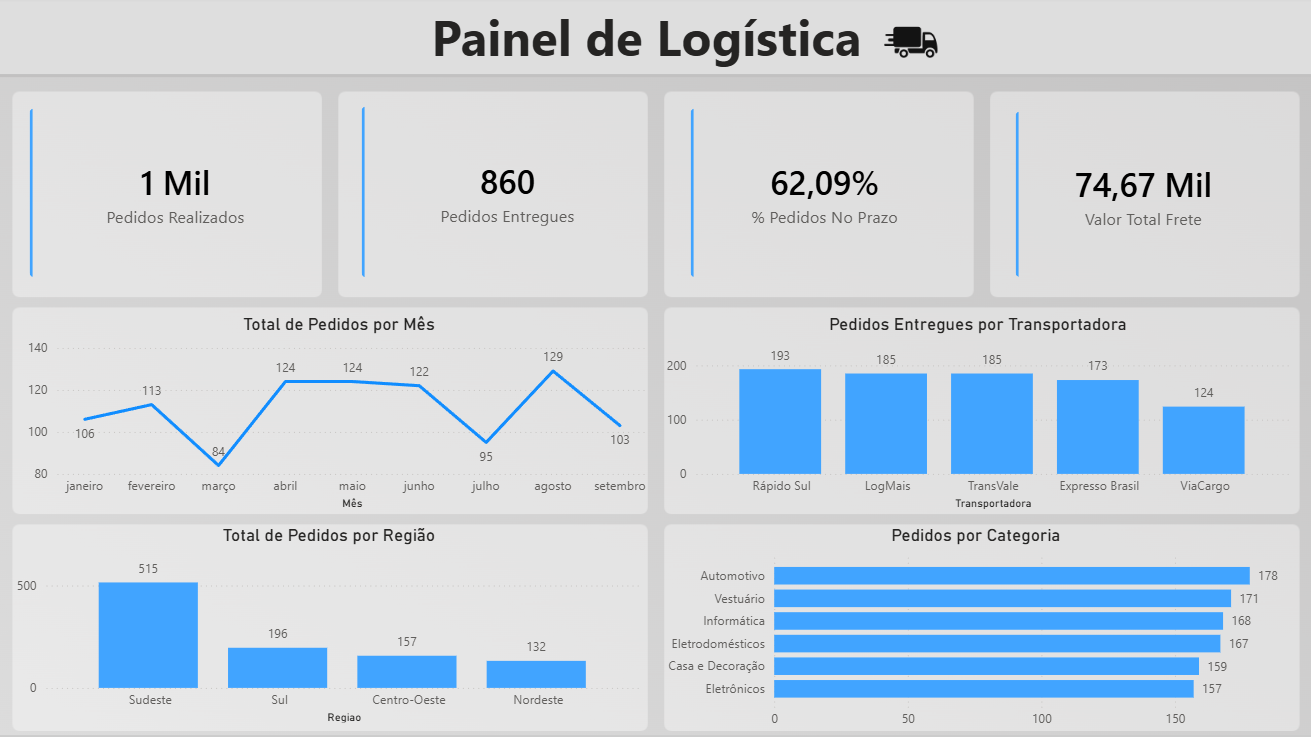

This screenshot's page, from the dashboard's own definition file:
{"tool":"powerbi","page":{"name":"Página 1","canvas":[1280,720],"ordinal":0},"visuals":[{"type":"cardVisual","title":"Pedidos Realizados","fields":{"Data":["Pedidos.Pedidos Realizados"]},"box":[12.6,90.5,320,200.4],"z":0},{"type":"cardVisual","fields":{"Data":["Pedidos.Pedidos Entregues"]},"box":[335.6,88.5,320,202.3],"z":1},{"type":"cardVisual","fields":{"Data":["Pedidos.% Pedidos No Prazo"]},"box":[655.6,90.5,297.6,200.4],"z":2},{"type":"cardVisual","fields":{"Data":["Pedidos.Valor Total do Frete"]},"box":[971.7,93.4,286,197.4],"z":4},{"type":"lineChart","fields":{"Y":["Pedidos.Total de Pedidos"],"Category":["Pedidos.Data_Pedido.Variation.Hierarquia de datas.Ano","Pedidos.Data_Pedido.Variation.Hierarquia de datas.Trimestre","Pedidos.Data_Pedido.Variation.Hierarquia de datas.Mês","Pedidos.Data_Pedido.Variation.Hierarquia de datas.Dia"]},"box":[23.3,308.3,616.7,194.5],"z":5},{"type":"columnChart","title":"Pedidos Entregues por Transportadora","fields":{"Category":["Pedidos.Transportadora"],"Y":["Pedidos.Pedidos Entregues"]},"box":[644.9,308.3,616.7,194.5],"z":6},{"type":"columnChart","fields":{"Category":["Pedidos.Regiao"],"Y":["Pedidos.Total de Pedidos"]},"box":[14.6,513.6,616.7,197.4],"z":7},{"type":"image","box":[855,5.8,67.1,66.1],"z":8},{"type":"barChart","title":"Volume de Vendas por Categoria","fields":{"Category":["Pedidos.Categoria"],"Y":["CountNonNull(Pedidos.ID_Pedido)"]},"box":[641,513.6,616.7,206.2],"z":9},{"type":"textbox","box":[384.2,0,493.1,76.8],"z":10}]}

Visuals, with their boxes in screenshot pixels (x1, y1, x2, y2), scaled from the page's 1280x720 canvas onto the 1311x737 screenshot:
"Pedidos Realizados" cardVisual: box=[13, 93, 341, 298]
cardVisual - Pedidos.Pedidos Entregues: box=[344, 91, 671, 298]
cardVisual - Pedidos.% Pedidos No Prazo: box=[671, 93, 976, 298]
cardVisual - Pedidos.Valor Total do Frete: box=[995, 96, 1288, 298]
lineChart - Pedidos.Total de Pedidos x Pedidos.Data_Pedido.Variation.Hierarquia de datas.Ano: box=[24, 316, 656, 515]
"Pedidos Entregues por Transportadora" columnChart: box=[661, 316, 1292, 515]
columnChart - Pedidos.Regiao x Pedidos.Total de Pedidos: box=[15, 526, 647, 728]
image: box=[876, 6, 944, 74]
"Volume de Vendas por Categoria" barChart: box=[657, 526, 1288, 736]
textbox: box=[394, 0, 899, 79]
